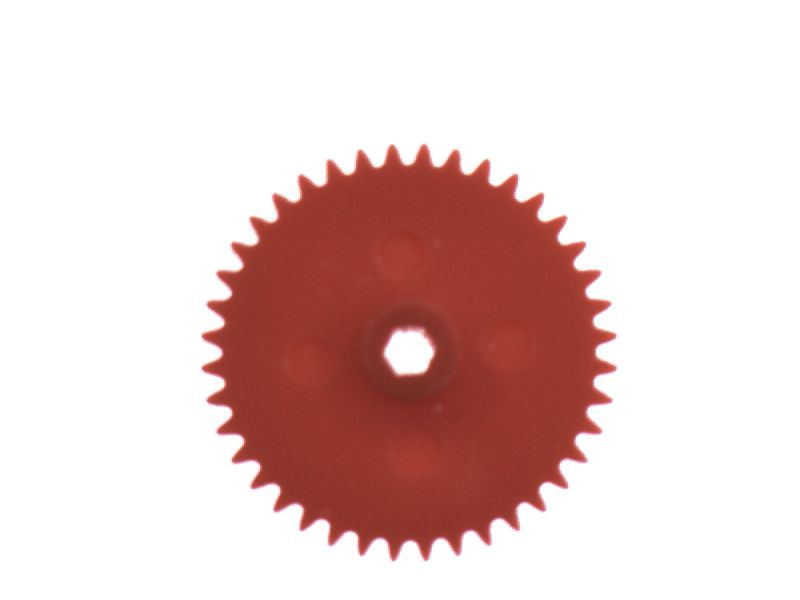good_product: (188, 134, 630, 571)
